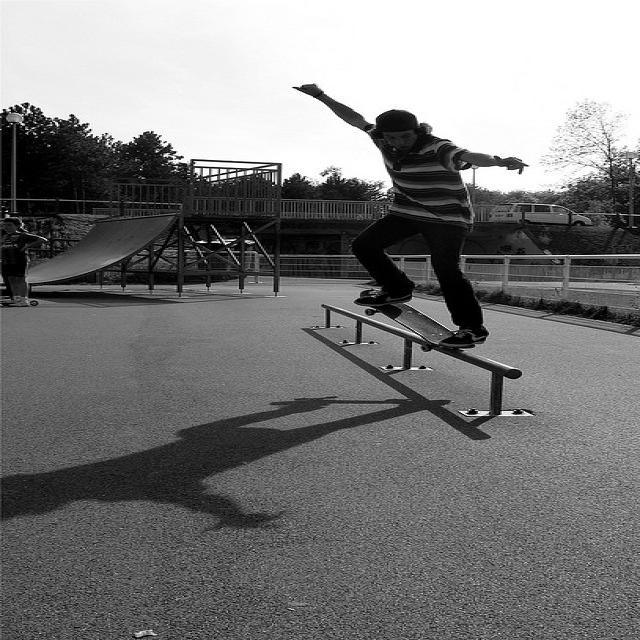Vehicle: (485, 203, 592, 225)
